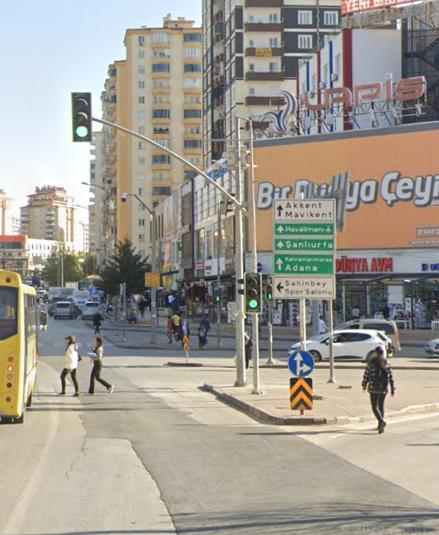greenlight: (72, 93, 91, 141), (247, 273, 261, 311)
